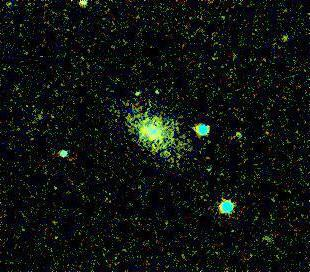star: (270, 23, 300, 53)
